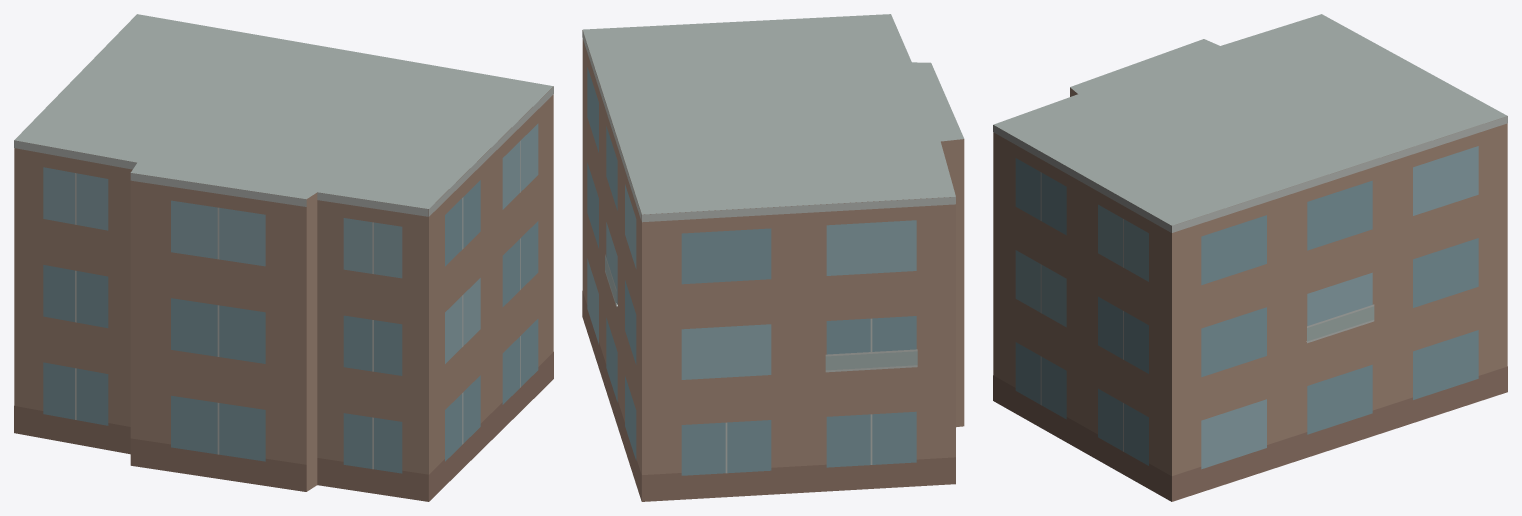
The model's file is survey-upis-32698800.glb.
The picture shows the model from 3 angles, left to right: view 1: azimuth 30°, elevation 25°; view 2: azimuth 150°, elevation 25°; view 3: azimuth 270°, elevation 25°; orthographic projection. The views are drawn at different scales.
Visible parts, largest first — view 1: survey-upis-32698800.tmp; view 2: survey-upis-32698800.tmp; view 3: survey-upis-32698800.tmp.
Boxes of the visible parts, x1,y1,x2,y2 form: survey-upis-32698800.tmp: (14,14,553,501); survey-upis-32698800.tmp: (582,14,964,501); survey-upis-32698800.tmp: (993,14,1507,501).
Bounding box in the file's own units: 15.06 × 9.15 × 15.46.
